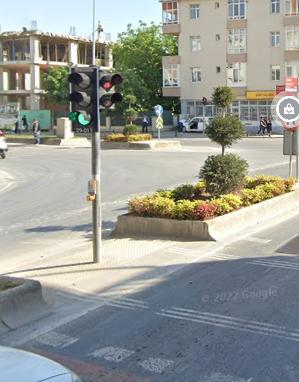greenlight: (72, 67, 97, 130)
